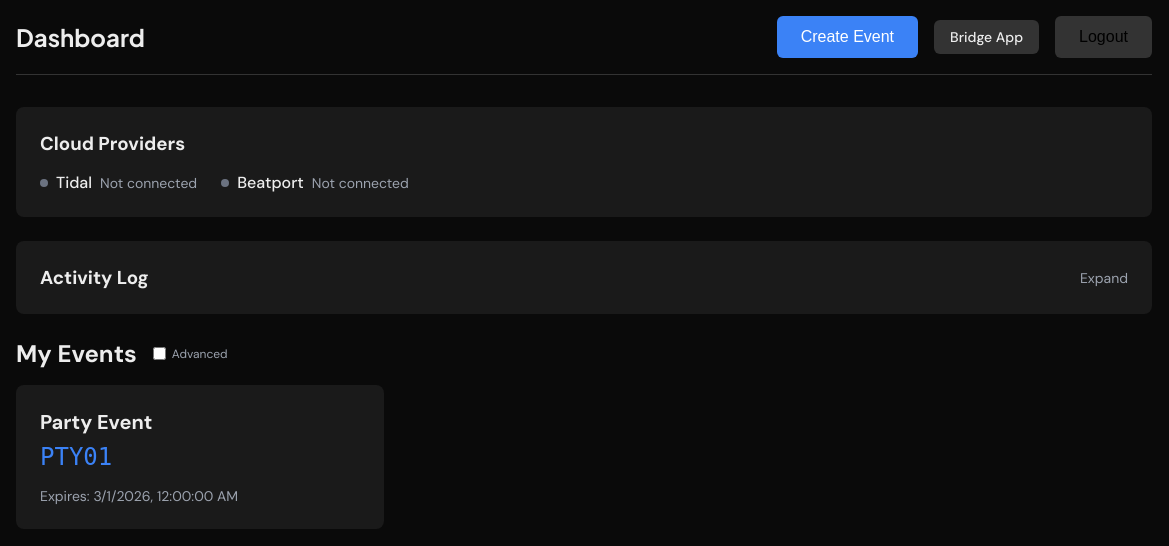
Test case: DashboardPage › shows selection mode when Advanced checkbox is checked
Expected: the heading "Party Event" is shown, left=40, top=409, right=152, bottom=435
Click the checkbox labelled "Advanced" at (159, 354), box left=153, top=347, right=166, bottom=360
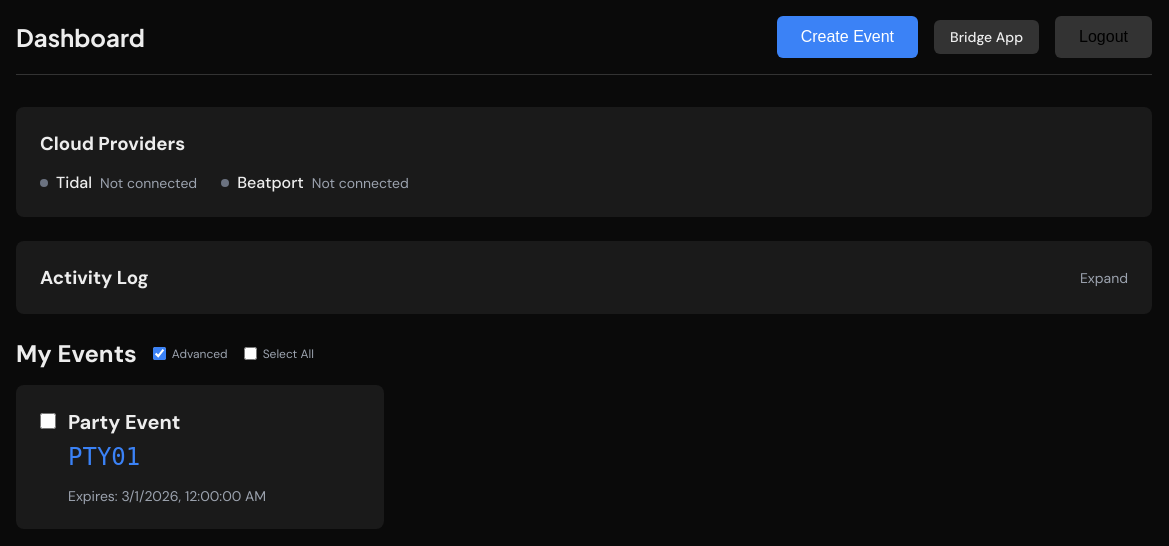
Expected: the checkbox labelled "Select All" is shown, left=244, top=347, right=257, bottom=360
